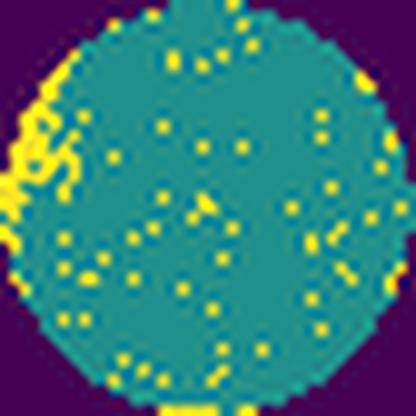Edge-Loc: (0, 46, 95, 258)
